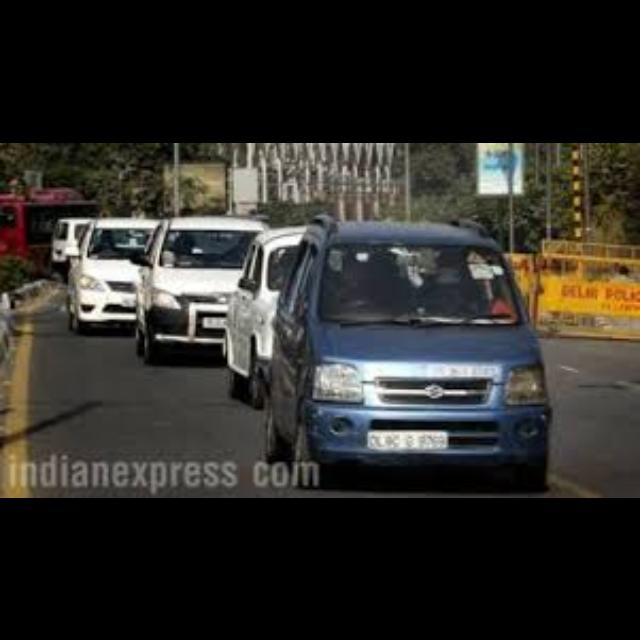number-plate: (366, 428, 447, 449), (200, 315, 226, 328)
vehicles: (228, 208, 547, 482), (132, 213, 268, 364), (69, 217, 156, 332)
